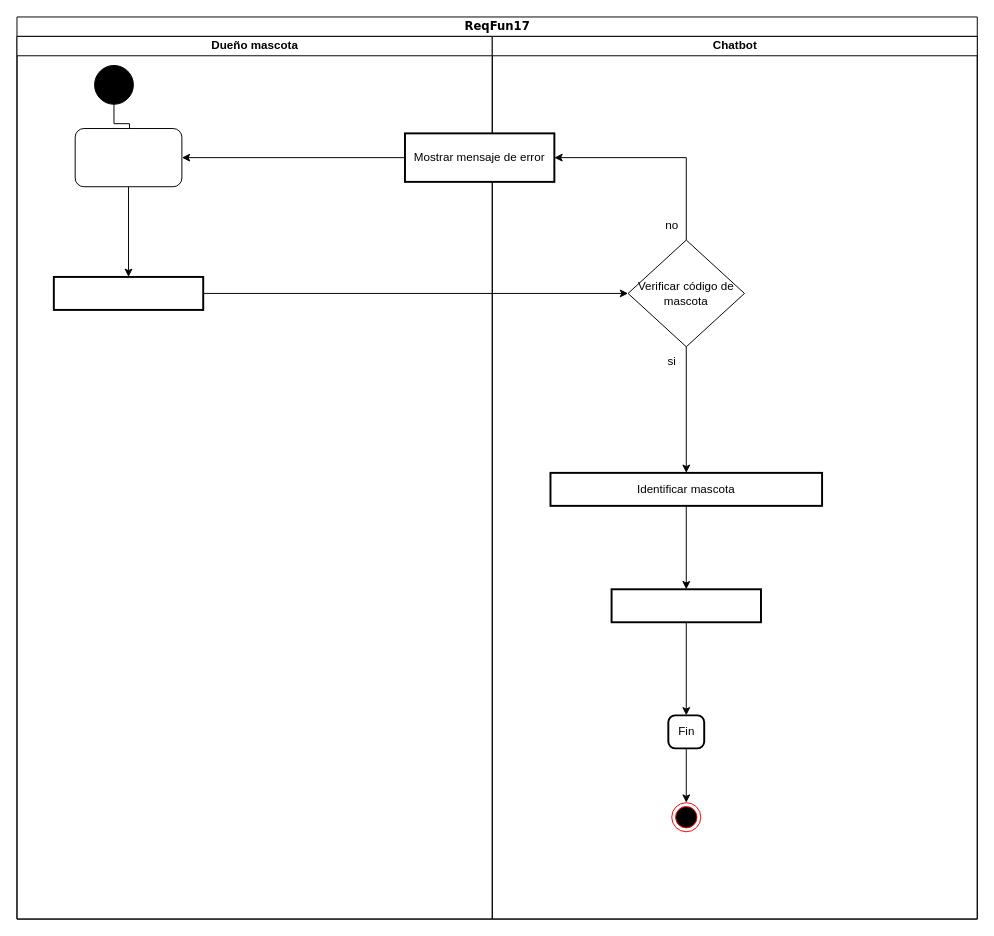
Some shapes in this 994 by 936 pixel diagram are drawn without their labels. Here are the shapes that lost their labels. From the top down, the box of each, then its label:
(74, 128, 182, 187): Iniciar conversación con el Chatbot
(52, 275, 204, 310): Proporcionar código de mascota
(610, 588, 761, 623): Mostrar información
